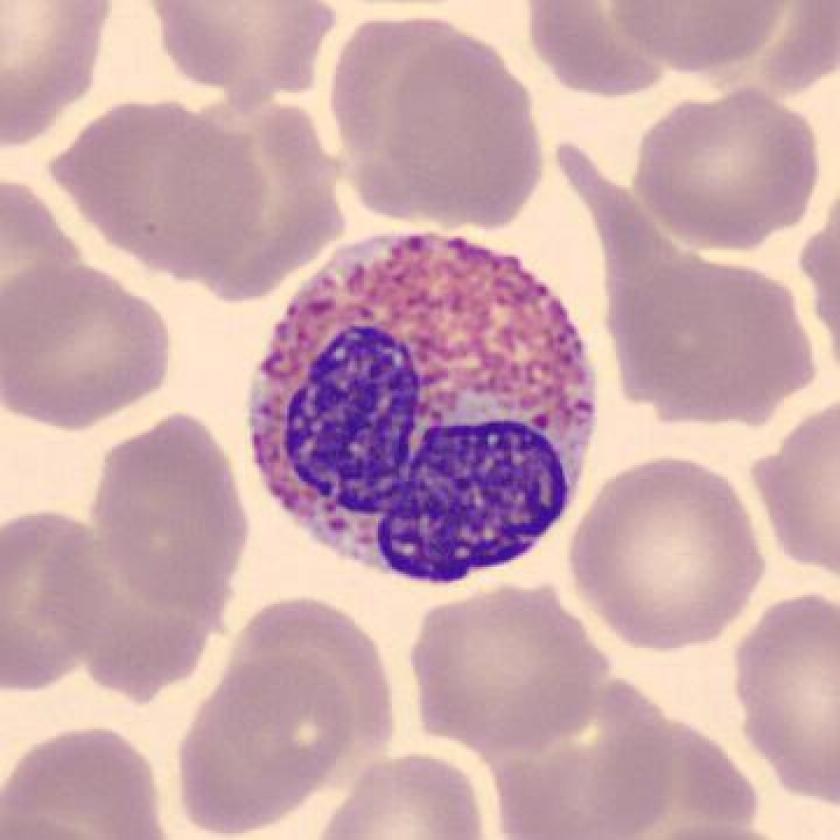eosinophil: (242, 221, 620, 603)
